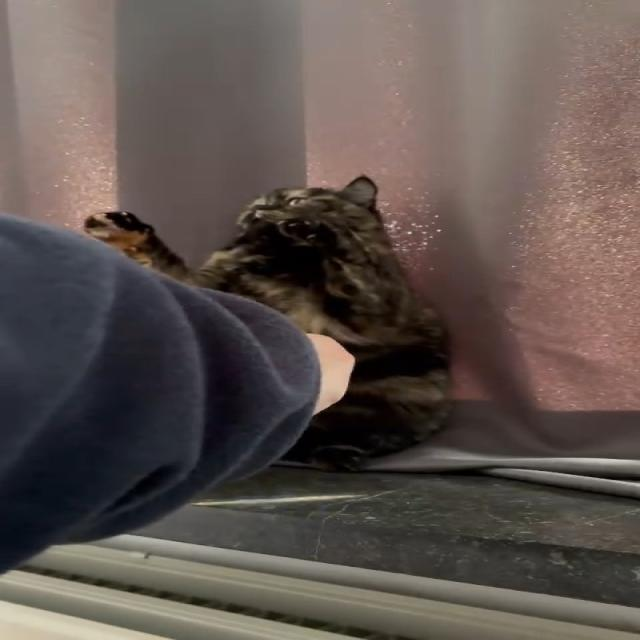authorized: (81, 174, 455, 472)
